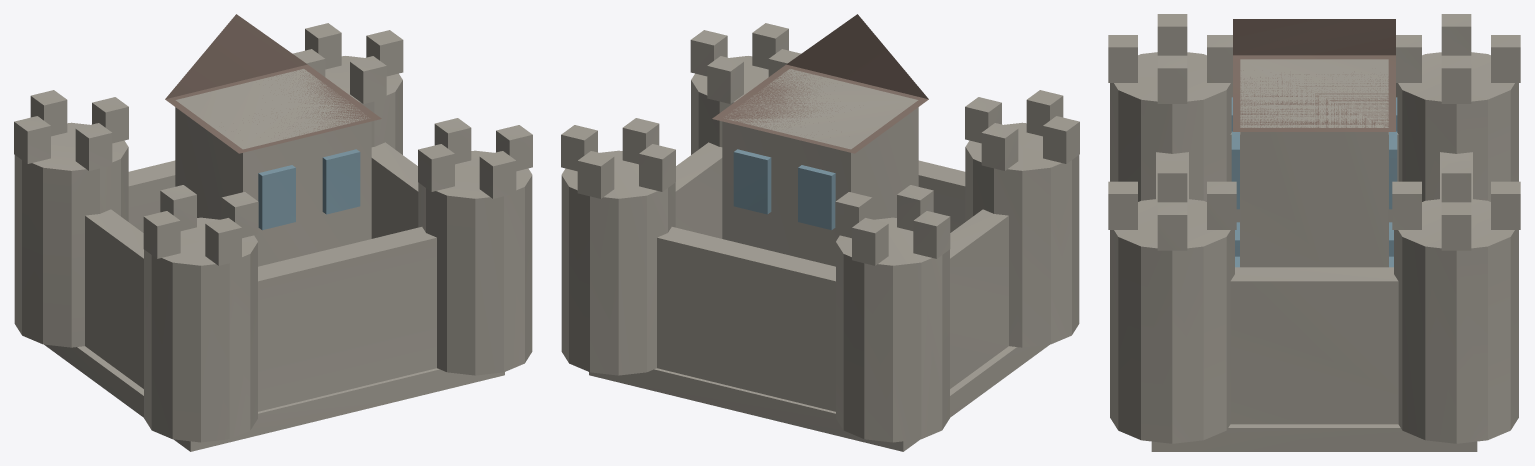
The model's file is castle-00.glb.
The picture shows the model from 3 angles, left to right: view 1: azimuth 30°, elevation 25°; view 2: azimuth 150°, elevation 25°; view 3: azimuth 270°, elevation 25°; orthographic projection. The views are drawn at different scales.
Parts seen in each view (by area): view 1: world; view 2: world; view 3: world.
Part boxes in pixels (box(x1,y1,x2,y2)): world: box(14, 14, 532, 451); world: box(561, 14, 1079, 451); world: box(1108, 14, 1520, 451).
Size of the model in its own units: 1.45 by 1.17 by 1.25.
